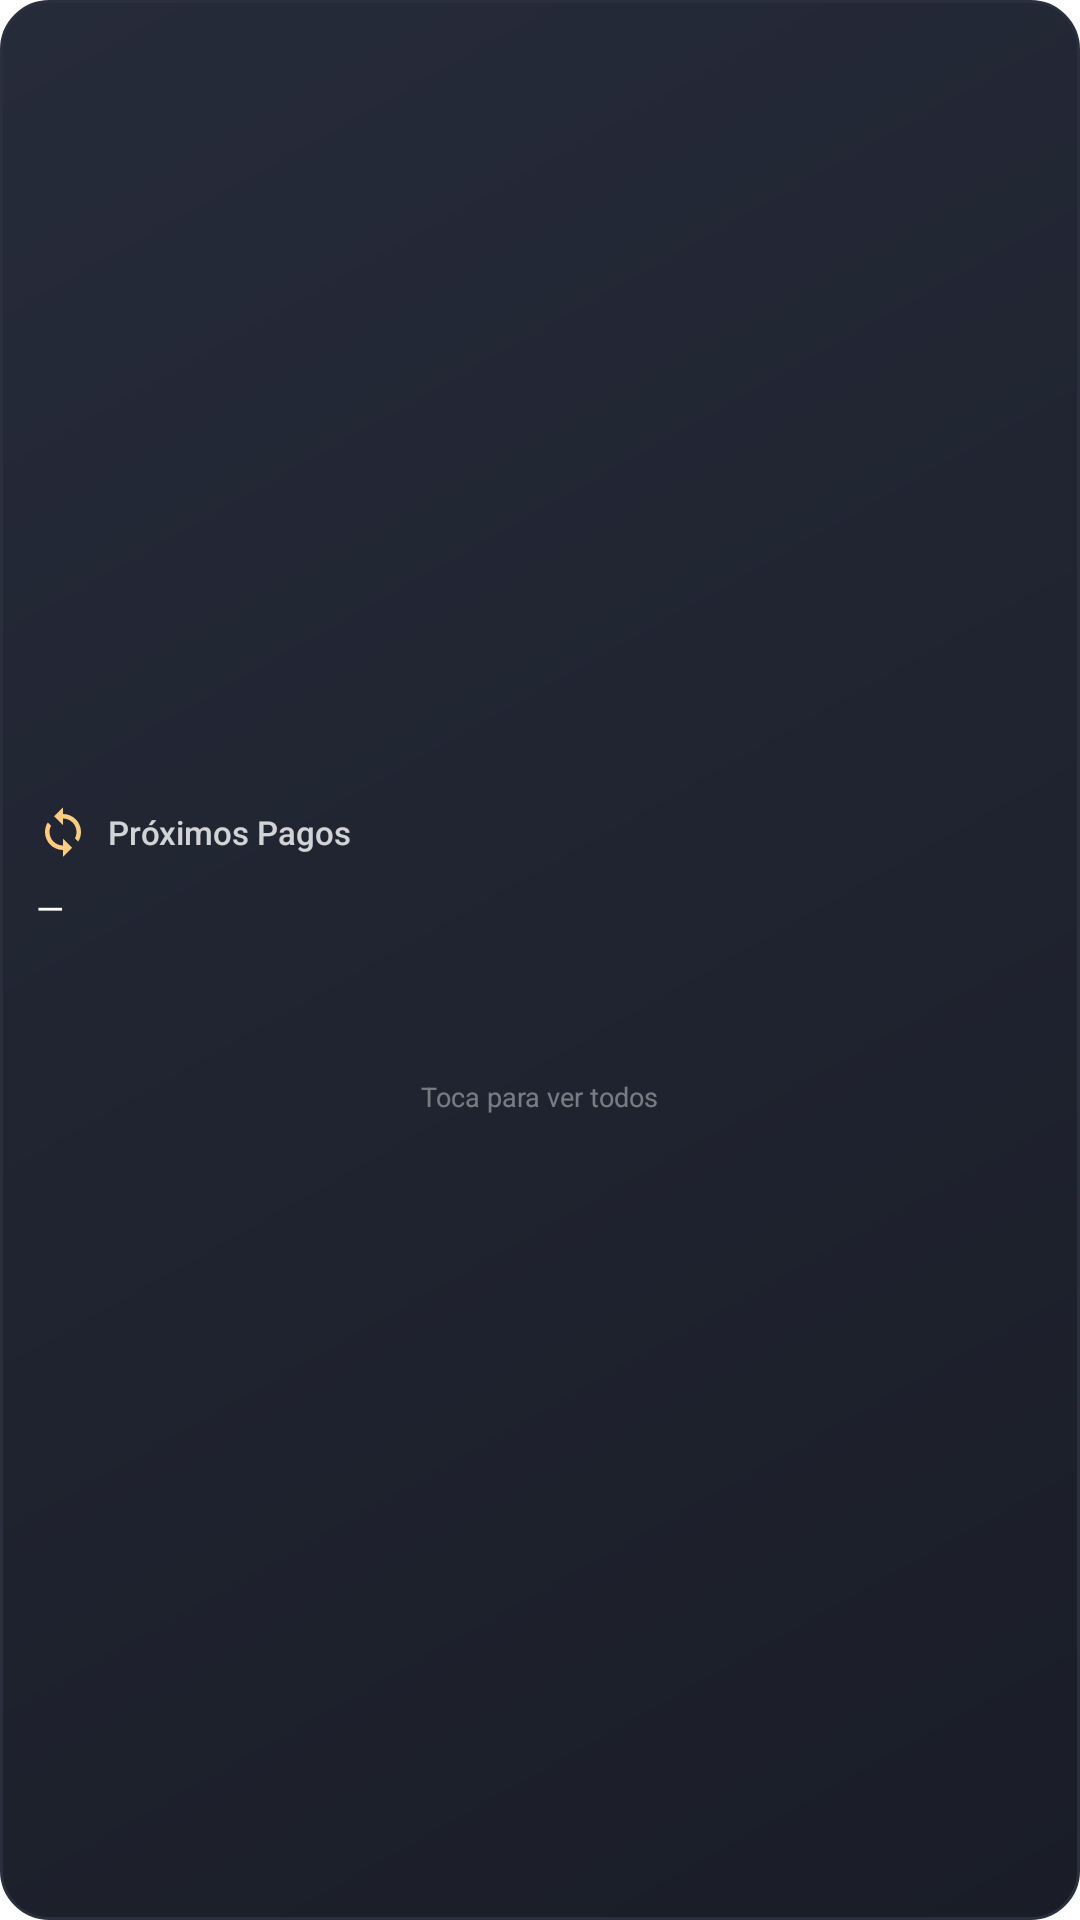

Named icons in this screenshot (1080x1920) and their bounding boxes, rect(x1, y1, x2, y2):
loop: rect(45, 807, 81, 857)
